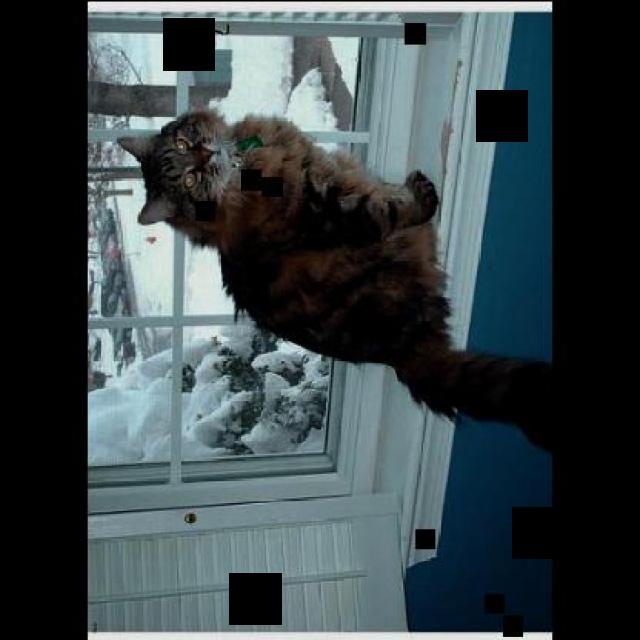unauthorized: (116, 108, 558, 454)
